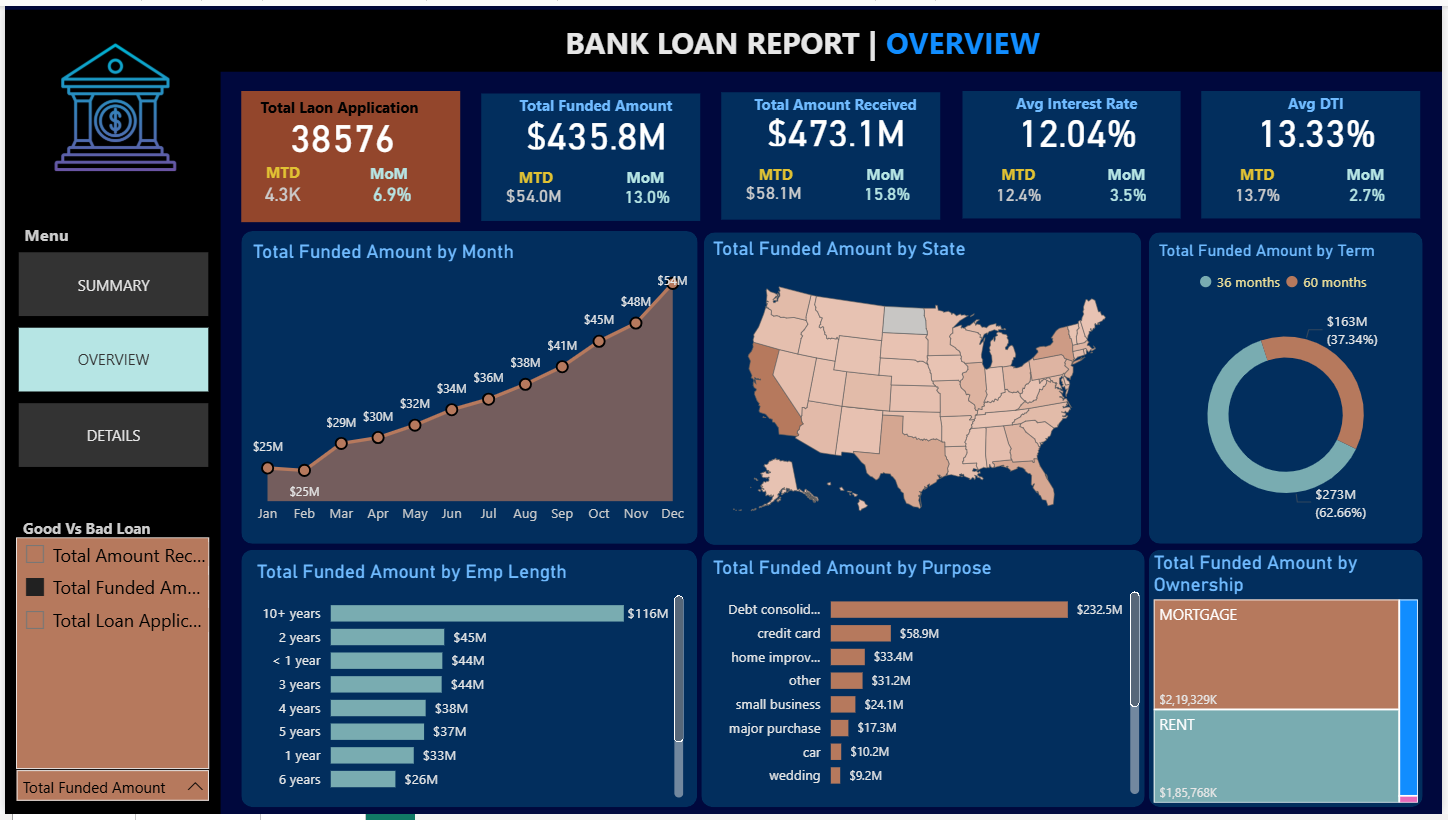

The page's visual inventory and layout, read from the dashboard file:
{"tool":"powerbi","page":{"name":"OVERVIEW","canvas":[1280,720],"ordinal":1},"visuals":[{"type":"shape","box":[0,3.6,1280,55.5],"z":0},{"type":"group","id":"g1","title":"Group 3","box":[423.6,75.1,195.4,117],"z":0,"group":"g14"},{"type":"shape","box":[210.1,76.3,195,117],"z":0,"group":"g16"},{"type":"shape","box":[851.9,76.3,194.2,113.5],"z":0,"group":"g8"},{"type":"shape","box":[1065.5,76.3,195,113.5],"z":0,"group":"g15"},{"type":"shape","box":[637.2,77.4,195,113.5],"z":0,"group":"g2"},{"type":"shape","box":[423.6,78.7,195,113.5],"z":0,"group":"g1"},{"type":"card","fields":{"Values":["Measure.MTD For Amount"]},"box":[653.2,150.6,62.7,34.4],"z":0,"group":"g4"},{"type":"card","fields":{"Values":["Measure.MTD For Int Rate"]},"box":[870.3,151.4,62.7,35.1],"z":0,"group":"g5"},{"type":"card","fields":{"Values":["Measure.MTD For DTI"]},"box":[1084.4,151.4,63,35.1],"z":0,"group":"g6"},{"type":"card","fields":{"Values":["bank_loan_db bank_loan.MTD For Applications"]},"box":[220,151.8,54.3,33.8],"z":0,"group":"g3"},{"type":"card","fields":{"Values":["Measure.MTD For Fund"]},"box":[439.7,153.4,63,35.1],"z":0,"group":"g7"},{"type":"card","fields":{"Values":["Measure.MoM For Application"]},"box":[317.6,154.2,53.1,29],"z":0,"group":"g9"},{"type":"card","fields":{"Values":["Measure.MoM For Amount"]},"box":[758.6,154.7,53.1,27.5],"z":0,"group":"g10"},{"type":"card","fields":{"Values":["Measure.MoM For Int Rate"]},"box":[973.3,155.1,53.1,28.1],"z":0,"group":"g11"},{"type":"card","fields":{"Values":["Measure.MoM For DTI"]},"box":[1187.4,155.1,53.3,28.1],"z":0,"group":"g12"},{"type":"card","fields":{"Values":["Measure.MoM For Fund"]},"box":[545.4,157.5,53.3,28.1],"z":0,"group":"g13"},{"type":"shape","box":[210.9,200,406.6,278.7],"z":0,"group":"g17"},{"type":"shape","box":[621.8,201.2,389.7,278.7],"z":0,"group":"g18"},{"type":"shape","box":[209.9,483.8,406,229.2],"z":0,"group":"g19"},{"type":"group","id":"g2","title":"Group 3","box":[637.2,73.9,195.4,117],"z":1000,"group":"g14"},{"type":"group","id":"g3","title":"Group 1","box":[220,134.2,54.3,51.4],"z":1000,"group":"g16"},{"type":"textbox","box":[220,134.2,54.3,30.2],"z":1000,"group":"g3"},{"type":"textbox","box":[310.4,135.4,62.7,37.4],"z":1000,"group":"g9"},{"type":"textbox","box":[751.7,135.8,62.7,35.5],"z":1000,"group":"g10"},{"type":"textbox","box":[966.4,135.8,62.7,36.3],"z":1000,"group":"g11"},{"type":"textbox","box":[1180.5,135.8,63,36.3],"z":1000,"group":"g12"},{"type":"group","id":"g4","title":"Group 1","box":[653.2,136.1,64.3,48.9],"z":1000,"group":"g2"},{"type":"textbox","box":[656,136.1,61.5,28.7],"z":1000,"group":"g4"},{"type":"group","id":"g5","title":"Group 1","box":[870.3,136.2,62.7,50.3],"z":1000,"group":"g8"},{"type":"textbox","box":[870.6,136.2,61.5,29.2],"z":1000,"group":"g5"},{"type":"group","id":"g6","title":"Group 1","box":[1084.4,136.2,63,50.3],"z":1000,"group":"g15"},{"type":"textbox","box":[1084.4,136.2,61.8,29.2],"z":1000,"group":"g6"},{"type":"textbox","box":[538.5,138.2,63,36.3],"z":1000,"group":"g13"},{"type":"group","id":"g7","title":"Group 1","box":[439.7,138.6,64.5,49.9],"z":1000,"group":"g1"},{"type":"textbox","box":[442.5,138.6,61.8,29.2],"z":1000,"group":"g7"},{"type":"shape","box":[620.1,483.8,395,229.2],"z":1000},{"type":"shape","box":[0,54.9,192,665.5],"z":2000},{"type":"group","id":"g8","title":"Group 3","box":[851.9,72.7,194.2,117],"z":2000,"group":"g14"},{"type":"group","id":"g9","title":"Group 2","box":[310.4,135.4,62.7,47.8],"z":2000,"group":"g16"},{"type":"group","id":"g10","title":"Group 2","box":[751.7,135.8,62.7,46.4],"z":2000,"group":"g2"},{"type":"group","id":"g11","title":"Group 2","box":[966.4,135.8,62.7,47.4],"z":2000,"group":"g8"},{"type":"group","id":"g12","title":"Group 2","box":[1180.5,135.8,63,47.4],"z":2000,"group":"g15"},{"type":"group","id":"g13","title":"Group 2","box":[538.5,138.2,63,47.4],"z":2000,"group":"g1"},{"type":"group","id":"g14","title":"Group 5","box":[210.1,72.7,1050.8,120.6],"z":3000},{"type":"textbox","box":[868.6,72.7,170.1,29.2],"z":3000,"group":"g8"},{"type":"group","id":"g15","title":"Group 3","box":[1065.5,72.7,195.4,117],"z":3000,"group":"g14"},{"type":"textbox","box":[1082.3,72.7,170.8,29.2],"z":3000,"group":"g15"},{"type":"textbox","box":[653.9,73.9,170.1,28.7],"z":3000,"group":"g2"},{"type":"textbox","box":[440.3,75.1,170.8,29.2],"z":3000,"group":"g1"},{"type":"textbox","box":[217.3,76.5,159.3,27.7],"z":3000,"group":"g16"},{"type":"group","id":"g16","title":"Group 4","box":[210.1,76.3,195,117],"z":4000,"group":"g14"},{"type":"card","fields":{"Values":["Measure.Avg Interst Rate"]},"box":[883.3,91.4,142.4,39.8],"z":4000,"group":"g8"},{"type":"card","fields":{"Values":["Measure.Avg DTI"]},"box":[1097,91.4,142.9,39.8],"z":4000,"group":"g15"},{"type":"card","fields":{"Values":["Measure.Total Amount Received"]},"box":[668.6,92.2,142.4,39],"z":4000,"group":"g2"},{"type":"card","fields":{"Values":["Measure.Total Funded Amount"]},"box":[455.1,93.8,142.9,39.8],"z":4000,"group":"g1"},{"type":"card","fields":{"Values":["bank_loan_db bank_loan.Total Loan Application"]},"box":[240.1,95.3,120.6,42.2],"z":4000,"group":"g16"},{"type":"group","id":"g17","title":"Group 6","box":[210.9,200,406.6,278.7],"z":4000},{"type":"group","id":"g18","title":"Group 6","box":[621.8,201.2,389.7,278.7],"z":5000},{"type":"slicer","fields":{"Values":["bank_loan.grade"]},"box":[0,536.6,191.7,48.6],"z":6000},{"type":"slicer","fields":{"Values":["bank_loan.address_state"]},"box":[0,610.7,191.7,48.6],"z":7000},{"type":"slicer","fields":{"Values":["bank_loan.Good Vs Bad Loan"]},"box":[0,471.5,191.7,48.6],"z":8000},{"type":"textbox","box":[10.2,517.5,72.8,29.4],"z":9000},{"type":"textbox","box":[11.5,588.5,58.8,35.8],"z":10000},{"type":"textbox","box":[470.5,8.4,479,45.8],"z":11000},{"type":"lineChart","fields":{"Y":["Measure.Total Amount Received"],"Category":["Calendar.Month Name"]},"box":[215.7,208.4,397,262],"z":12000},{"type":"textbox","box":[11.4,450.8,134,30],"z":13000},{"type":"shape","box":[1018.6,201.2,244,277.5],"z":14000},{"type":"barChart","fields":{"Y":["Measure.Total Amount Received"],"Category":["bank_loan.emp_length"]},"box":[218.3,492.2,390,217],"z":14004,"group":"g19"},{"type":"donutChart","fields":{"Y":["Measure.Total Amount Received"],"Category":["bank_loan.term"]},"box":[1027.3,209.6,226,260],"z":15000},{"type":"group","id":"g19","title":"Group 7","box":[209.9,483.8,406,229.2],"z":16000},{"type":"barChart","fields":{"Y":["Measure.Total Amount Received"],"Category":["bank_loan.purpose"]},"box":[625.1,489.8,389.7,217.2],"z":17000},{"type":"shape","box":[1018.2,483.8,244,229.2],"z":18000},{"type":"treemap","fields":{"Group":["bank_loan.home_ownership"],"Values":["Measure.Total Amount Received"]},"box":[1023.1,485,235.3,224.4],"z":19000},{"type":"textbox","box":[10.9,650.7,113.4,29],"z":19000,"group":"g20"},{"type":"shapeMap","fields":{"Value":["Measure.Total Amount Received"],"Category":["bank_loan.address_state"]},"box":[626.1,206.3,378,269],"z":20000},{"type":"slicer","fields":{"Values":["Select Measure.Select Measure"]},"box":[0,670,191.8,45.8],"z":20000,"group":"g20"},{"type":"group","id":"g20","title":"Group 8","box":[0,650.7,191.8,65.1],"z":21000},{"type":"image","box":[36.2,27.7,123.1,125.5],"z":22000},{"type":"textbox","box":[12.1,188.2,72.4,30.2],"z":23000},{"type":"pageNavigator","box":[12.1,219.6,169,193],"z":24000}]}

Visuals, with their boxes in screenshot pixels (x1, y1, x2, y2), scaled from the page's 1280x720 canvas onto the 1448x820 screenshot:
shape: <bbox>0, 4, 1447, 67</bbox>
"Group 3" group: <bbox>479, 86, 700, 219</bbox>
shape: <bbox>238, 87, 458, 220</bbox>
shape: <bbox>964, 87, 1183, 216</bbox>
shape: <bbox>1205, 87, 1426, 216</bbox>
shape: <bbox>721, 88, 941, 217</bbox>
shape: <bbox>479, 90, 700, 219</bbox>
card - Measure.MTD For Amount: <bbox>739, 172, 810, 211</bbox>
card - Measure.MTD For Int Rate: <bbox>985, 172, 1055, 212</bbox>
card - Measure.MTD For DTI: <bbox>1227, 172, 1298, 212</bbox>
card - bank_loan_db bank_loan.MTD For Applications: <bbox>249, 173, 310, 211</bbox>
card - Measure.MTD For Fund: <bbox>497, 175, 569, 215</bbox>
card - Measure.MoM For Application: <bbox>359, 176, 419, 209</bbox>
card - Measure.MoM For Amount: <bbox>858, 176, 918, 208</bbox>
card - Measure.MoM For Int Rate: <bbox>1101, 177, 1161, 209</bbox>
card - Measure.MoM For DTI: <bbox>1343, 177, 1404, 209</bbox>
card - Measure.MoM For Fund: <bbox>617, 179, 677, 211</bbox>
shape: <bbox>239, 228, 699, 545</bbox>
shape: <bbox>703, 229, 1144, 547</bbox>
shape: <bbox>237, 551, 697, 812</bbox>
"Group 3" group: <bbox>721, 84, 942, 217</bbox>
"Group 1" group: <bbox>249, 153, 310, 211</bbox>
textbox: <bbox>249, 153, 310, 187</bbox>
textbox: <bbox>351, 154, 422, 197</bbox>
textbox: <bbox>850, 155, 921, 195</bbox>
textbox: <bbox>1093, 155, 1164, 196</bbox>
textbox: <bbox>1335, 155, 1407, 196</bbox>
"Group 1" group: <bbox>739, 155, 812, 211</bbox>
textbox: <bbox>742, 155, 812, 188</bbox>
"Group 1" group: <bbox>985, 155, 1055, 212</bbox>
textbox: <bbox>985, 155, 1054, 188</bbox>
"Group 1" group: <bbox>1227, 155, 1298, 212</bbox>
textbox: <bbox>1227, 155, 1297, 188</bbox>
textbox: <bbox>609, 157, 680, 199</bbox>
"Group 1" group: <bbox>497, 158, 570, 215</bbox>
textbox: <bbox>501, 158, 570, 191</bbox>
shape: <bbox>701, 551, 1148, 812</bbox>
shape: <bbox>0, 63, 217, 819</bbox>
"Group 3" group: <bbox>964, 83, 1183, 216</bbox>
"Group 2" group: <bbox>351, 154, 422, 209</bbox>
"Group 2" group: <bbox>850, 155, 921, 208</bbox>
"Group 2" group: <bbox>1093, 155, 1164, 209</bbox>
"Group 2" group: <bbox>1335, 155, 1407, 209</bbox>
"Group 2" group: <bbox>609, 157, 680, 211</bbox>
"Group 5" group: <bbox>238, 83, 1426, 220</bbox>
textbox: <bbox>983, 83, 1175, 116</bbox>
"Group 3" group: <bbox>1205, 83, 1426, 216</bbox>
textbox: <bbox>1224, 83, 1418, 116</bbox>
textbox: <bbox>740, 84, 932, 117</bbox>
textbox: <bbox>498, 86, 691, 119</bbox>
textbox: <bbox>246, 87, 426, 119</bbox>
"Group 4" group: <bbox>238, 87, 458, 220</bbox>
card - Measure.Avg Interst Rate: <bbox>999, 104, 1160, 149</bbox>
card - Measure.Avg DTI: <bbox>1241, 104, 1403, 149</bbox>
card - Measure.Total Amount Received: <bbox>756, 105, 917, 149</bbox>
card - Measure.Total Funded Amount: <bbox>515, 107, 676, 152</bbox>
card - bank_loan_db bank_loan.Total Loan Application: <bbox>272, 109, 408, 157</bbox>
"Group 6" group: <bbox>239, 228, 699, 545</bbox>
"Group 6" group: <bbox>703, 229, 1144, 547</bbox>
slicer - bank_loan.grade: <bbox>0, 611, 217, 666</bbox>
slicer - bank_loan.address_state: <bbox>0, 696, 217, 751</bbox>
slicer - bank_loan.Good Vs Bad Loan: <bbox>0, 537, 217, 592</bbox>
textbox: <bbox>12, 589, 94, 623</bbox>
textbox: <bbox>13, 670, 80, 711</bbox>
textbox: <bbox>532, 10, 1074, 62</bbox>
lineChart - Measure.Total Amount Received x Calendar.Month Name: <bbox>244, 237, 693, 536</bbox>
textbox: <bbox>13, 513, 164, 548</bbox>
shape: <bbox>1152, 229, 1428, 545</bbox>
barChart - Measure.Total Amount Received x bank_loan.emp_length: <bbox>247, 561, 688, 808</bbox>
donutChart - Measure.Total Amount Received x bank_loan.term: <bbox>1162, 239, 1418, 535</bbox>
"Group 7" group: <bbox>237, 551, 697, 812</bbox>
barChart - Measure.Total Amount Received x bank_loan.purpose: <bbox>707, 558, 1148, 805</bbox>
shape: <bbox>1152, 551, 1428, 812</bbox>
treemap - bank_loan.home_ownership x Measure.Total Amount Received: <bbox>1157, 552, 1424, 808</bbox>
textbox: <bbox>12, 741, 141, 774</bbox>
shapeMap - Measure.Total Amount Received x bank_loan.address_state: <bbox>708, 235, 1136, 541</bbox>
slicer - Select Measure.Select Measure: <bbox>0, 763, 217, 815</bbox>
"Group 8" group: <bbox>0, 741, 217, 815</bbox>
image: <bbox>41, 32, 180, 174</bbox>
textbox: <bbox>14, 214, 96, 249</bbox>
pageNavigator: <bbox>14, 250, 205, 470</bbox>
